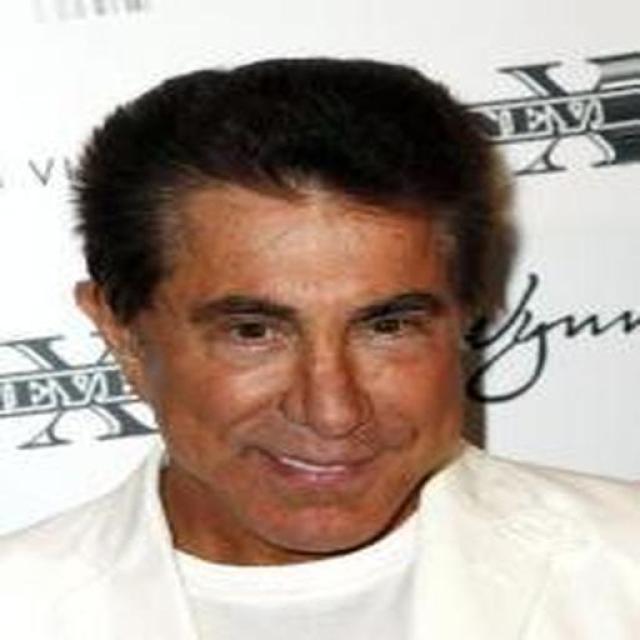bareface: (84, 80, 470, 556)
